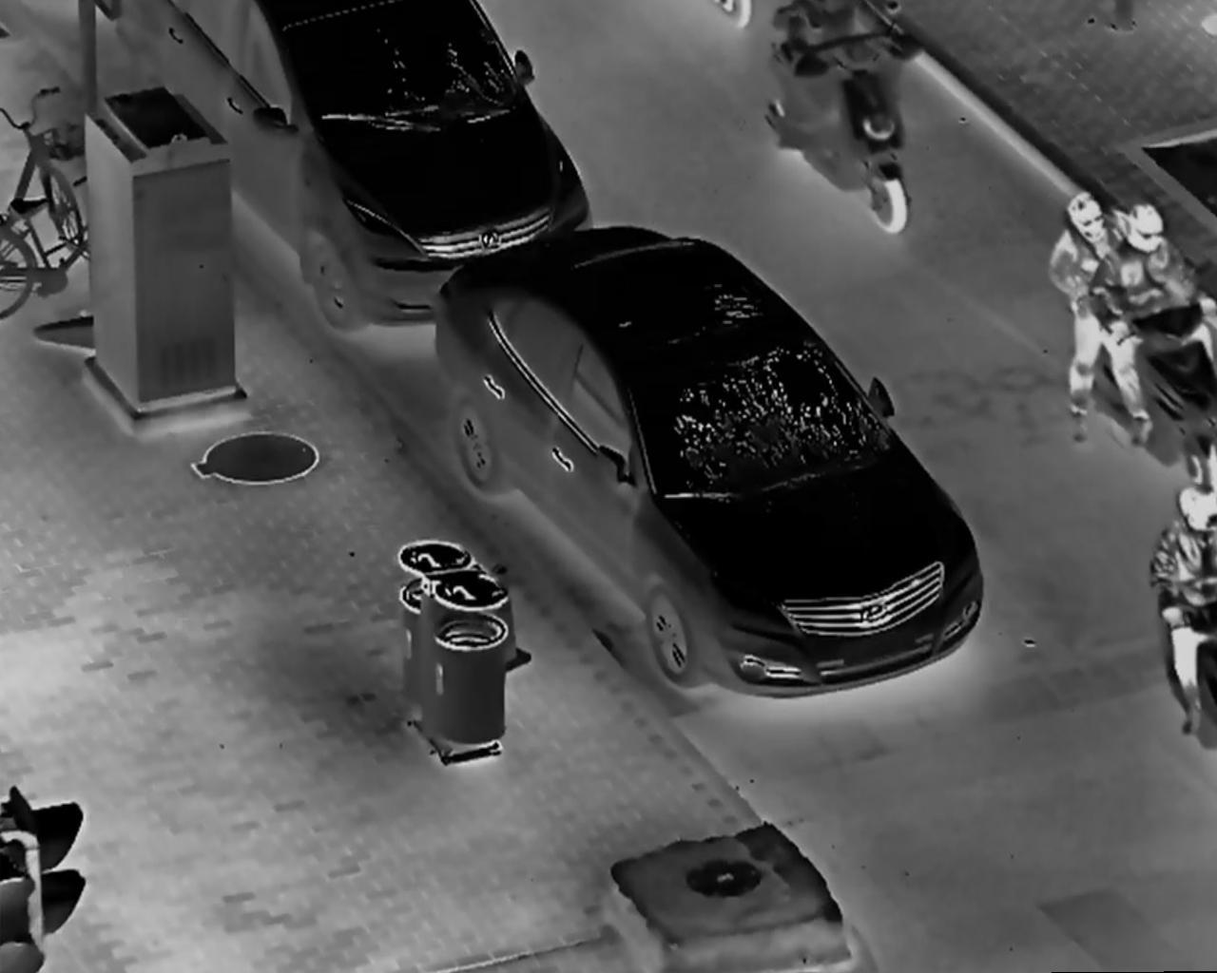person: (1099, 202, 1217, 445), (1045, 187, 1131, 451), (1148, 469, 1217, 719)
